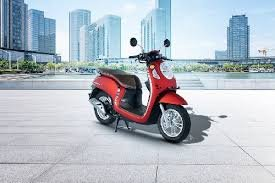motor: (89, 51, 191, 140)
